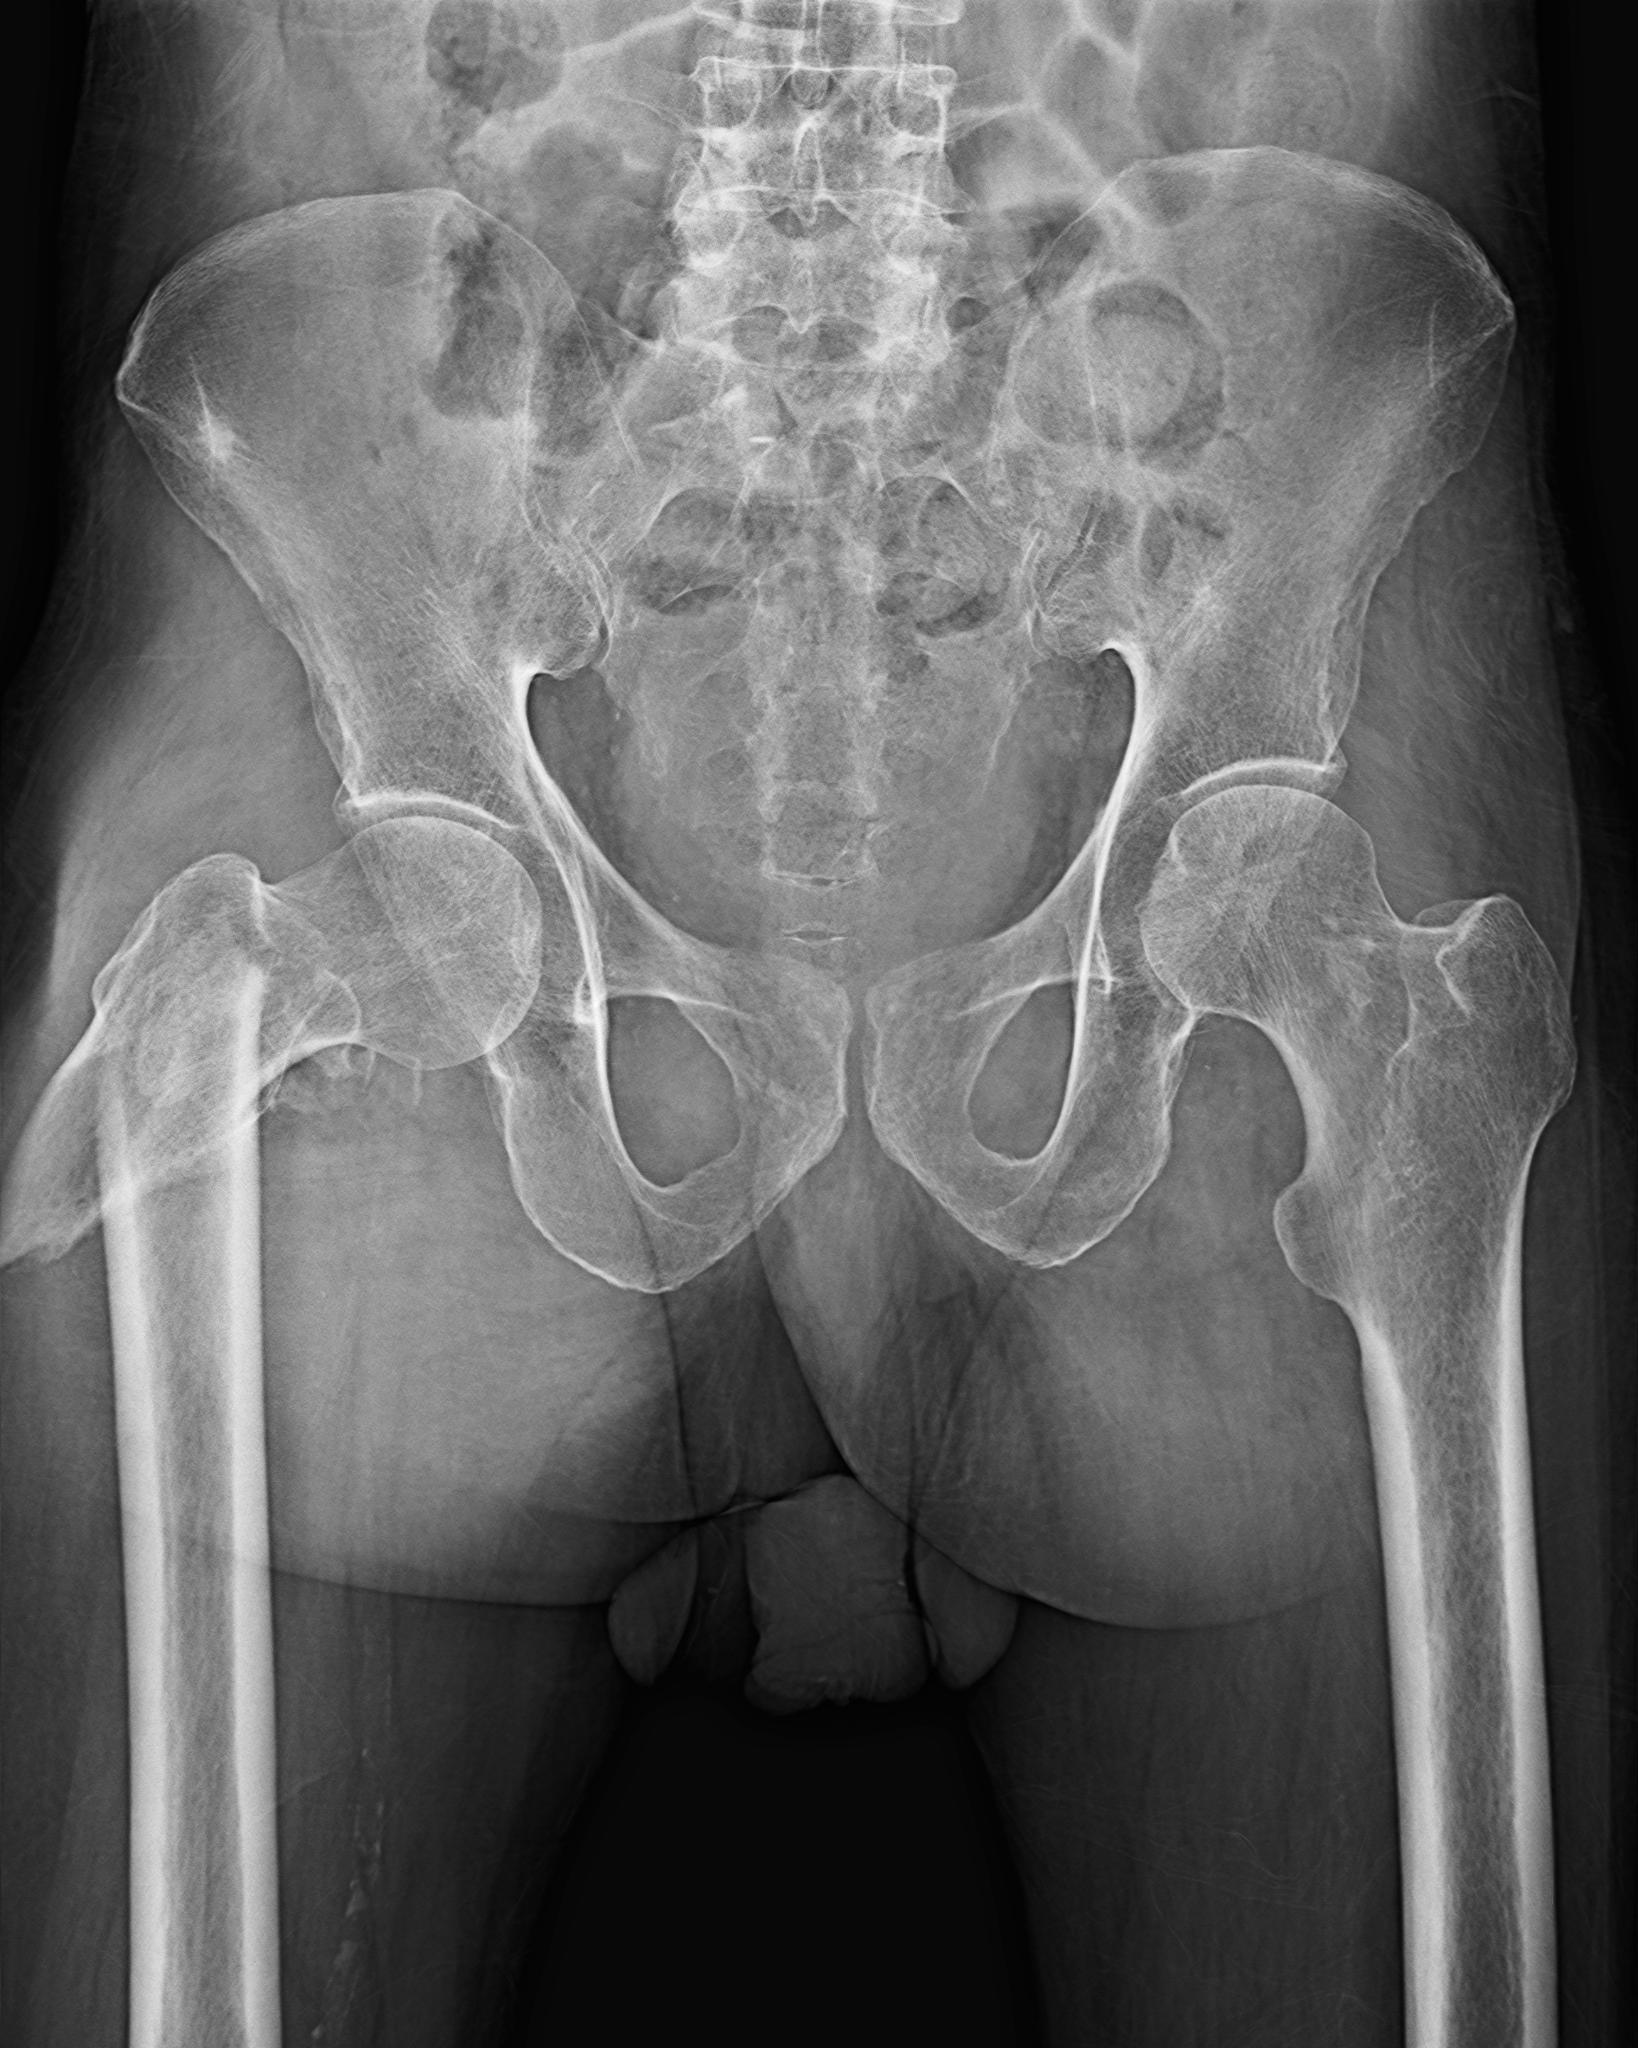fractured: (0, 889, 282, 1279)
